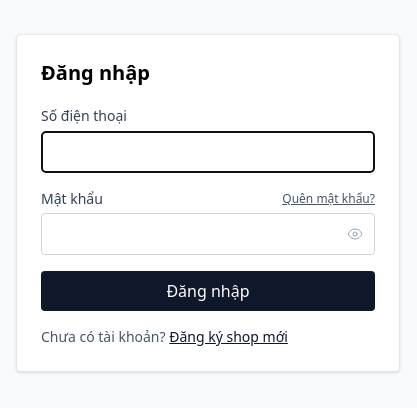
it: Login page › shows Vietnamese lockout message on 429
In the field labelled "Số điện thoại": (208, 152) [41,131,375,173], type "0900000001"
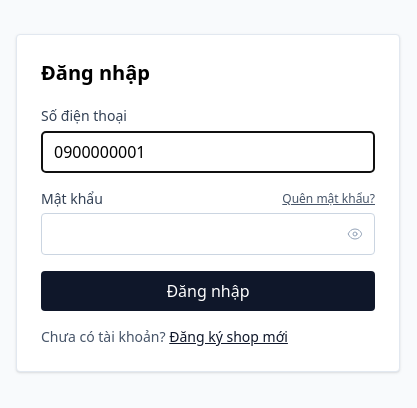
In the password field labelled "Mật khẩu": (208, 234) [41,213,375,255], type "locked"
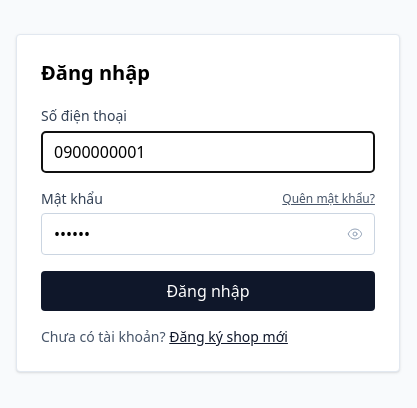
Click the button "Đăng nhập": click(208, 291) [41,271,375,311]
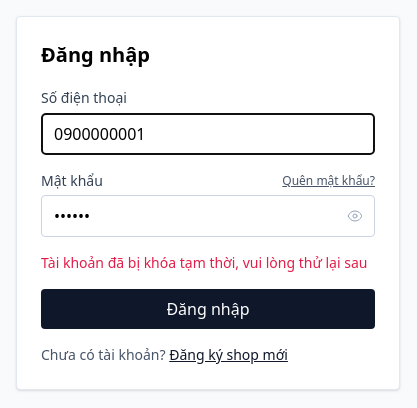
Now the message shows "khóa tạm thời", box [41,253,367,272]
